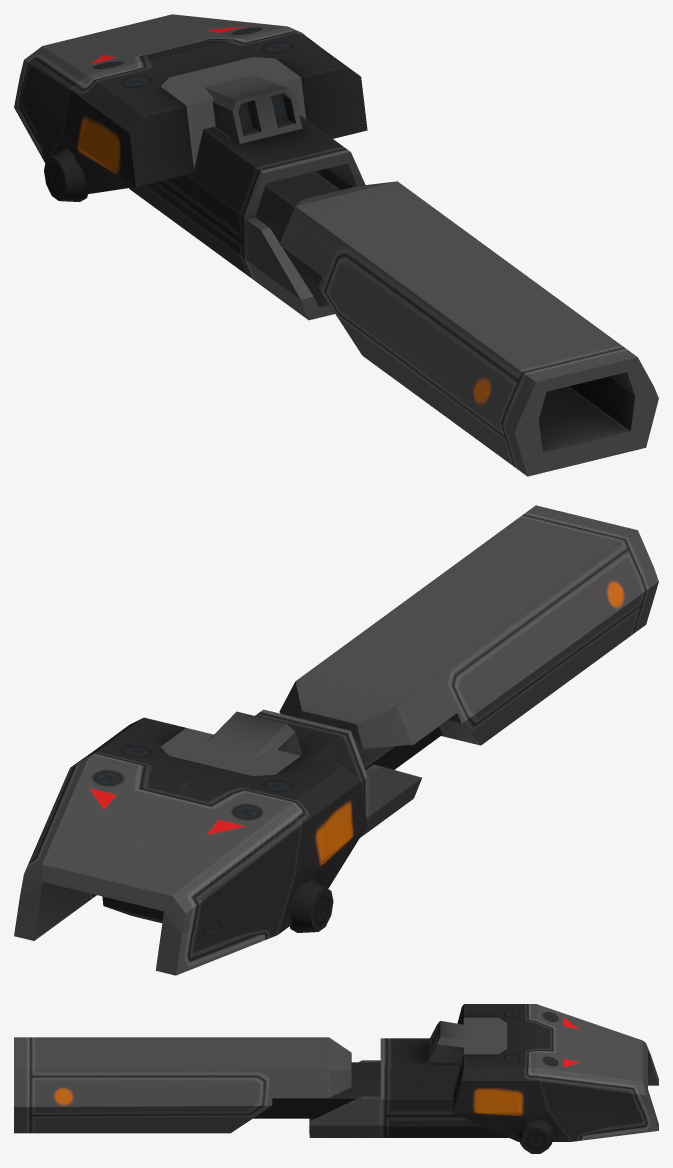
Rendered from Rail3.fbx.
3 renders of one model, top to bottom at view 1: azimuth 30°, elevation 25°; view 2: azimuth 150°, elevation 25°; view 3: azimuth 270°, elevation 25°, orthographic. The views are drawn at different scales.
Parts seen in each view (by area): view 1: Arcade1_CanonX003.008, Arcade1_CanonX003.005, Arcade1_CanonX003.004, Arcade1_LaserX2.003, Arcade1_CanonX003.006; view 2: Arcade1_CanonX003.005, Arcade1_CanonX003.008, Arcade1_CanonX003.004, Arcade1_LaserX2.003, Arcade1_CanonX003.006; view 3: Arcade1_CanonX003.008, Arcade1_CanonX003.005, Arcade1_CanonX003.004, Arcade1_CanonX003.006, Arcade1_LaserX2.003.
Part boxes in pixels (x1,y1,x2,y2): Arcade1_CanonX003.008: (279, 181, 658, 476); Arcade1_CanonX003.005: (14, 14, 367, 201); Arcade1_CanonX003.004: (129, 114, 365, 320); Arcade1_LaserX2.003: (204, 74, 302, 143); Arcade1_CanonX003.006: (255, 171, 340, 284); Arcade1_CanonX003.005: (14, 717, 367, 975); Arcade1_CanonX003.008: (279, 505, 658, 748); Arcade1_CanonX003.004: (102, 709, 421, 923); Arcade1_LaserX2.003: (204, 711, 302, 758); Arcade1_CanonX003.006: (354, 727, 442, 769); Arcade1_CanonX003.008: (14, 1037, 351, 1133); Arcade1_CanonX003.005: (453, 1004, 658, 1153); Arcade1_CanonX003.004: (309, 1038, 508, 1137); Arcade1_CanonX003.006: (253, 1062, 380, 1118); Arcade1_LaserX2.003: (428, 1021, 482, 1062).
Size of the model in its own units: 8.77 by 4.43 by 28.01.
